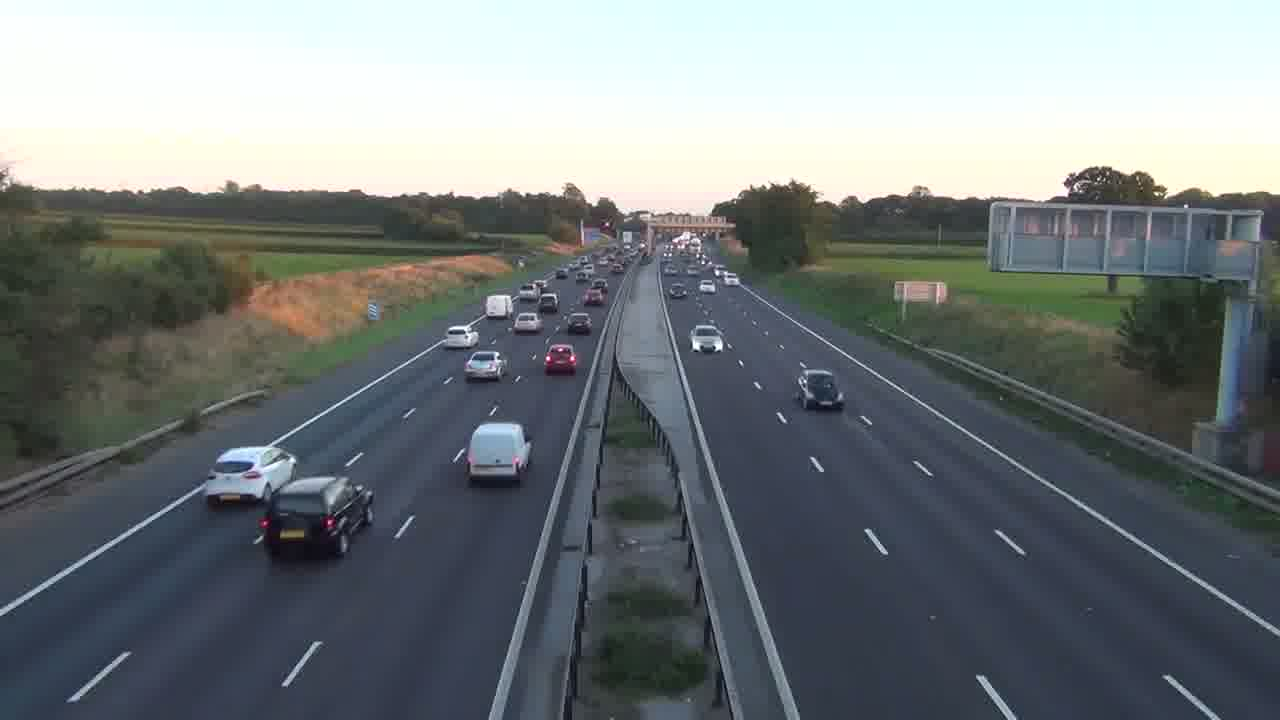car: (256, 474, 374, 560), (204, 445, 298, 506), (465, 350, 505, 383), (544, 343, 577, 375), (690, 324, 724, 353), (565, 313, 592, 335), (699, 281, 717, 294)
truck: (465, 421, 533, 486)
